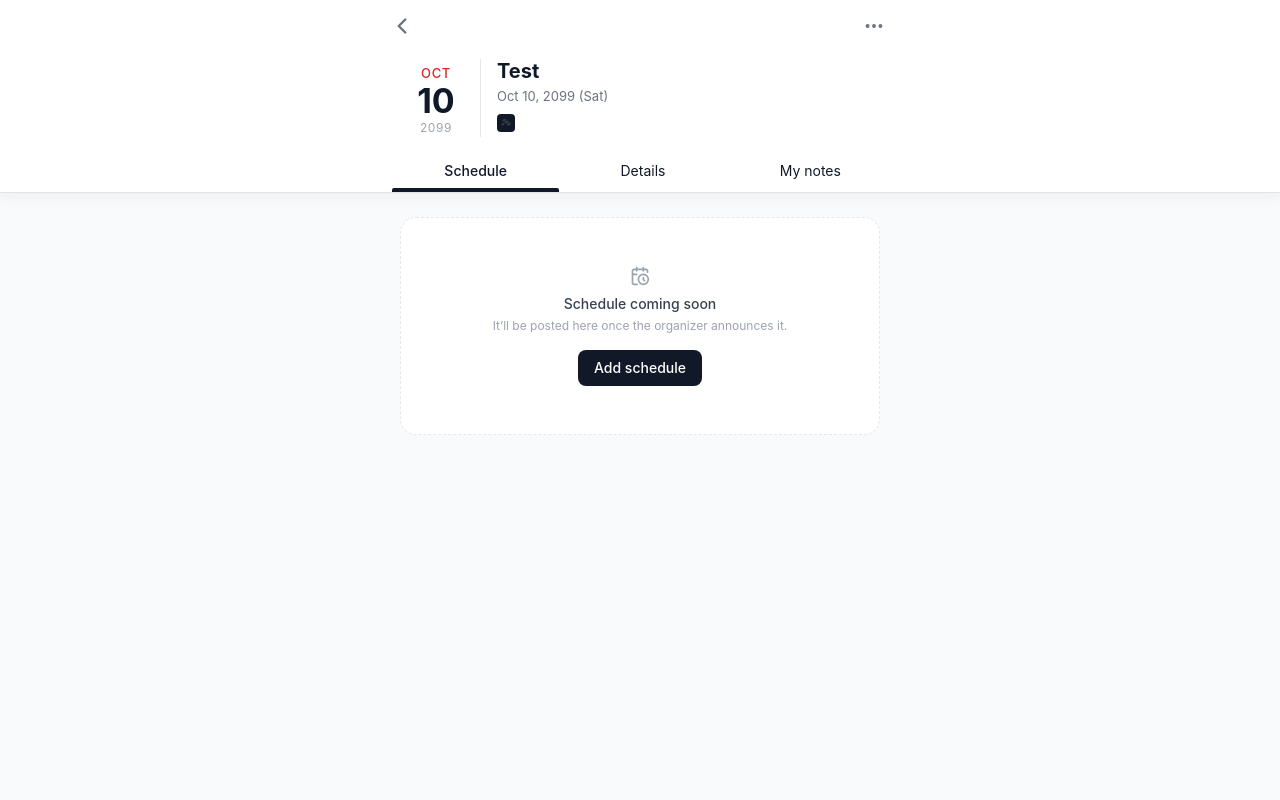
Test: deleting an event from the header menu (#229, #216, #232) › asks for confirmation, then deletes and goes home
The width and height of the screenshot is (1280, 800).
Step 1. Click the button named "More actions" → (874, 26), box [856,8,892,44]
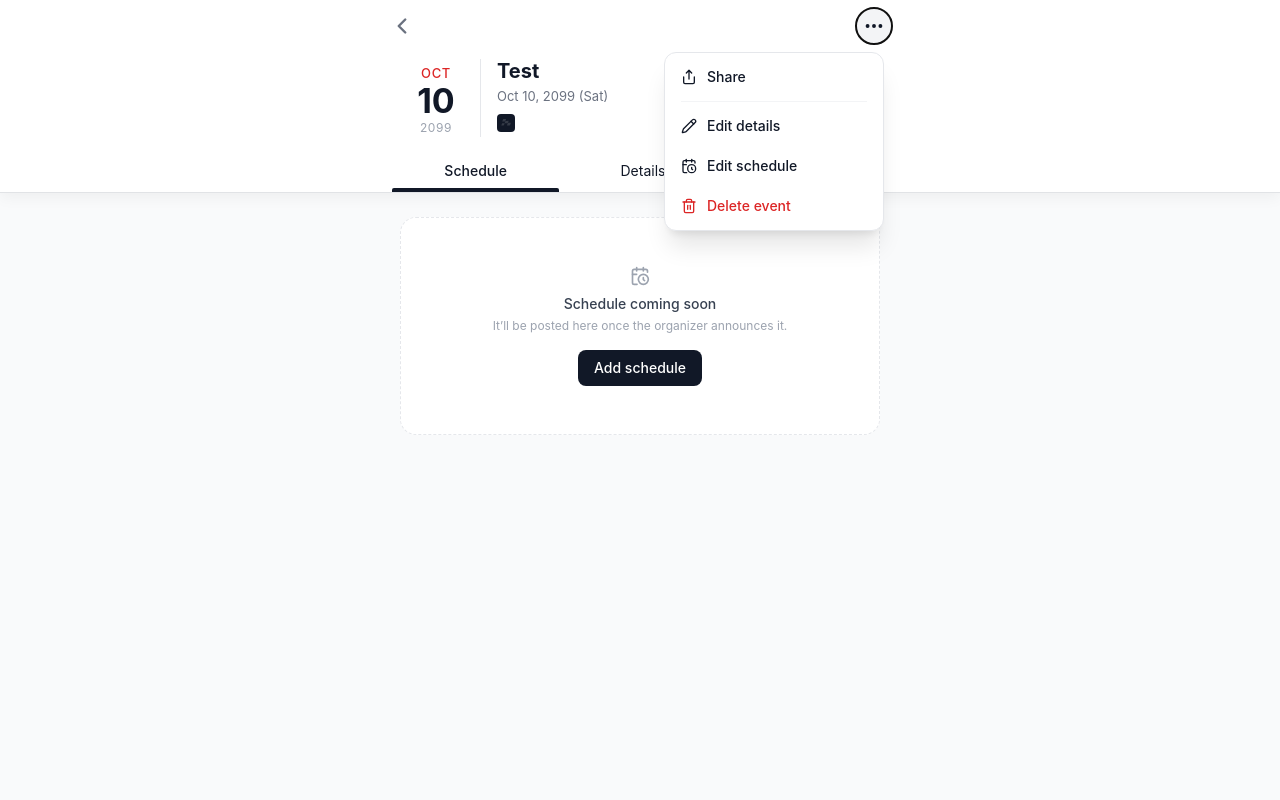
Step 2. Click the menu item "Delete event" → (774, 206), box [669,186,879,226]
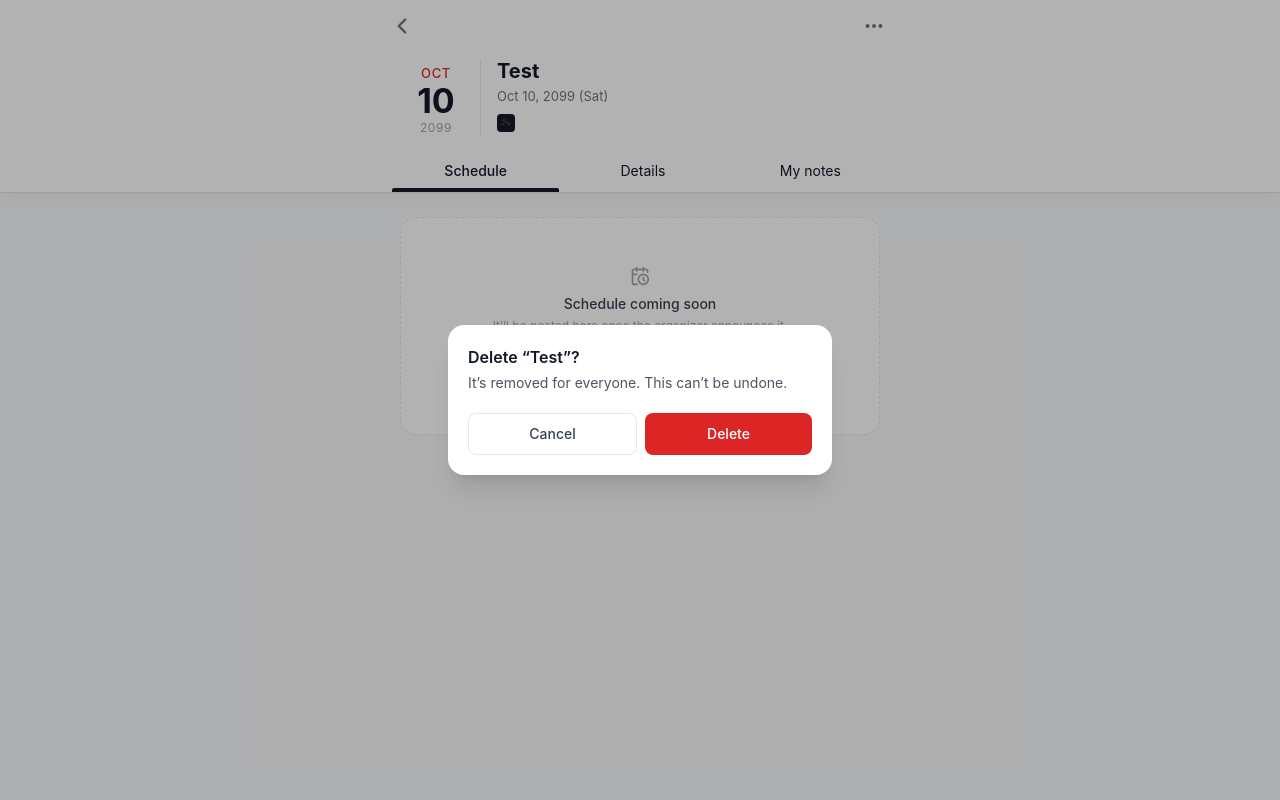
Expected: the menu is gone
Expected: the dialog shows "Delete “Test”?", [448,325,832,475]
Step 3. Click the button "Cancel" → (552, 434), box [468,413,637,455]
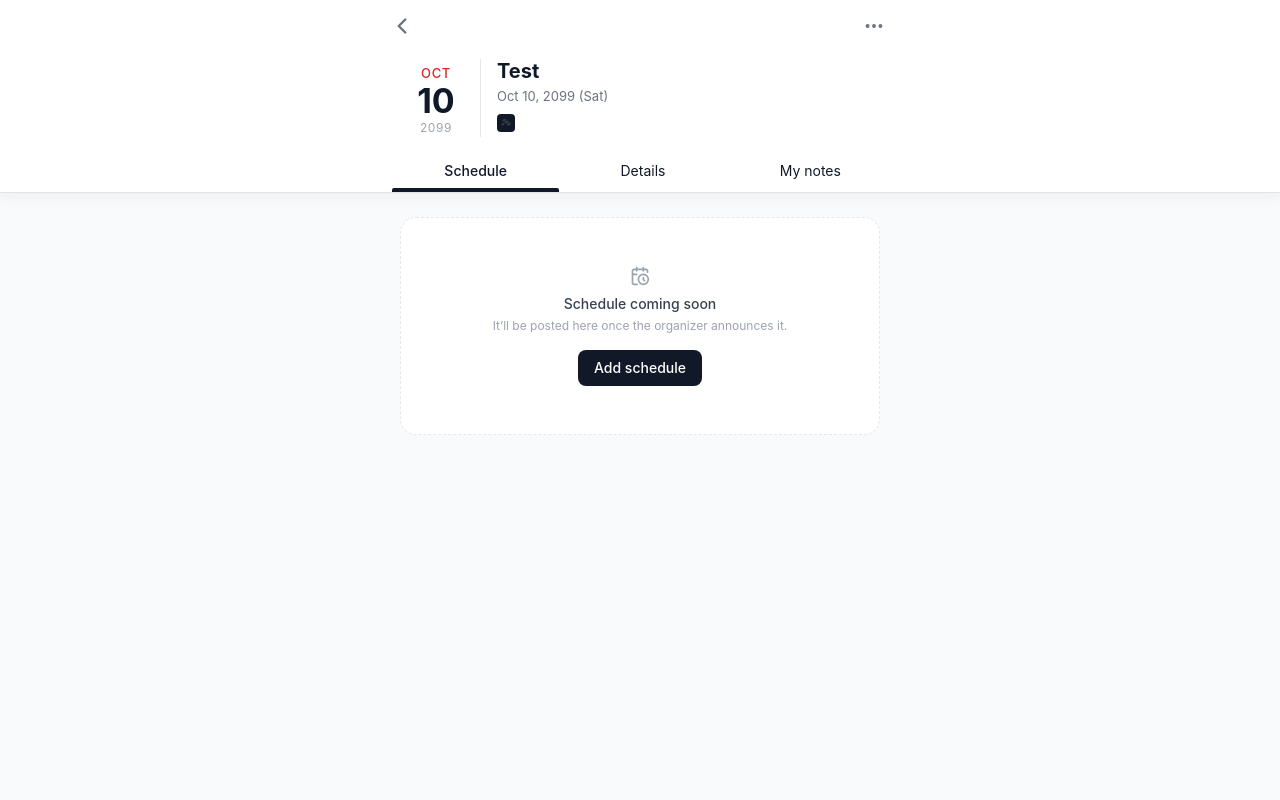
Expected: the dialog is gone
Step 4. Click the button named "More actions" → (874, 26), box [856,8,892,44]
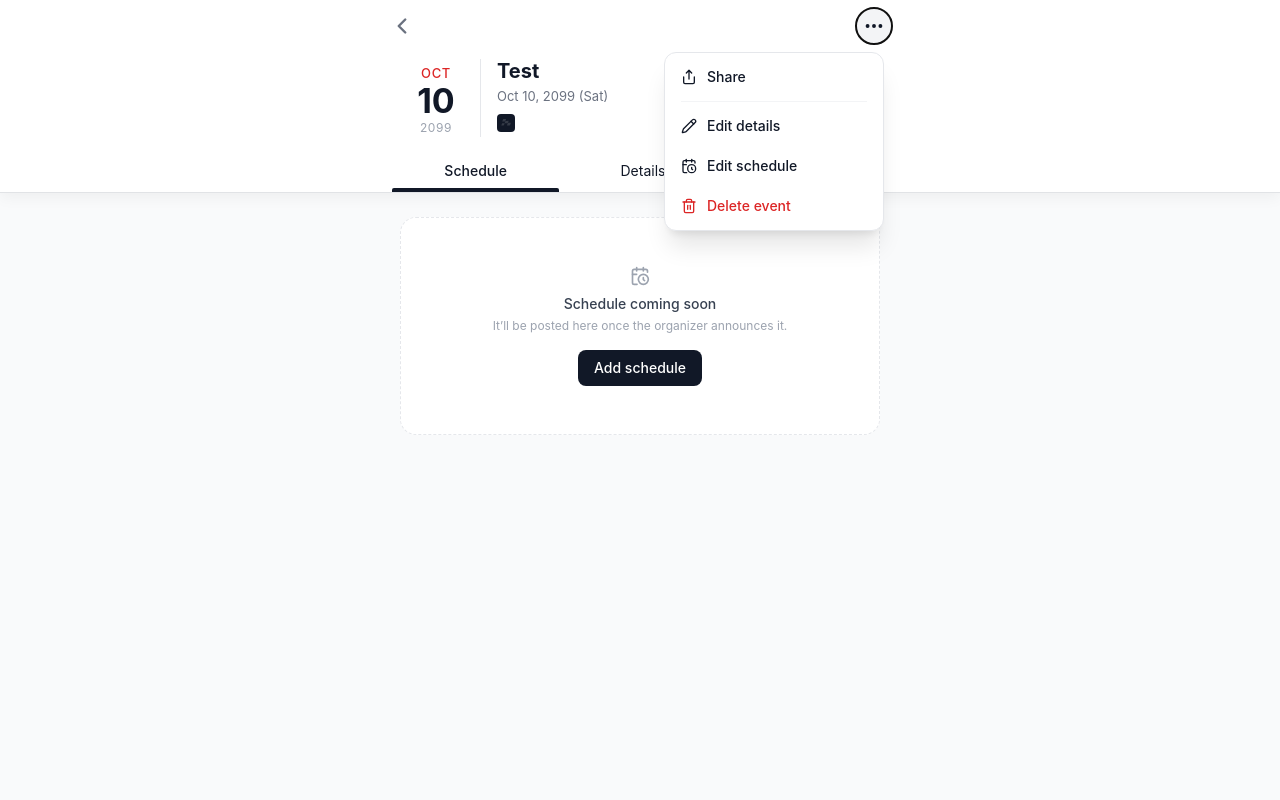
Step 5. Click the menu item "Delete event" → (774, 206), box [669,186,879,226]
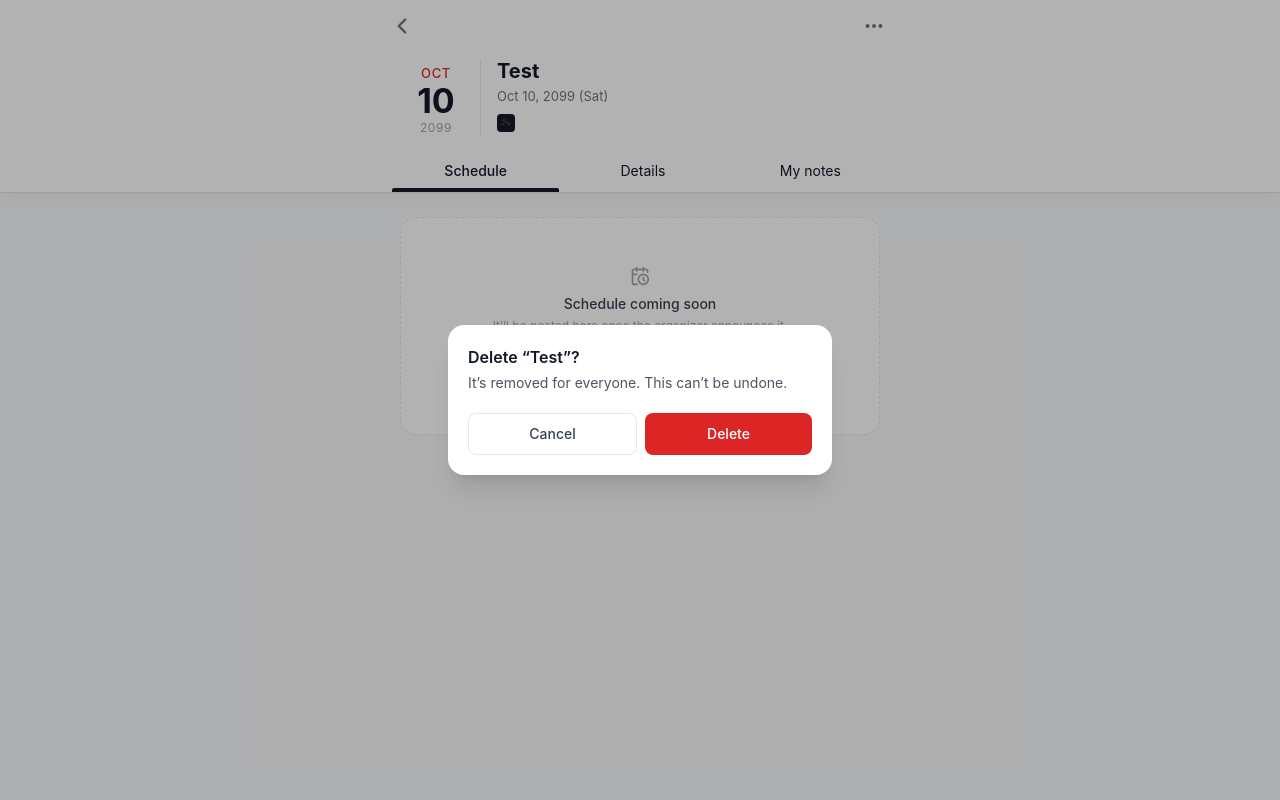
Step 6. Click the button "Delete" → (728, 434), box [645,413,812,455]
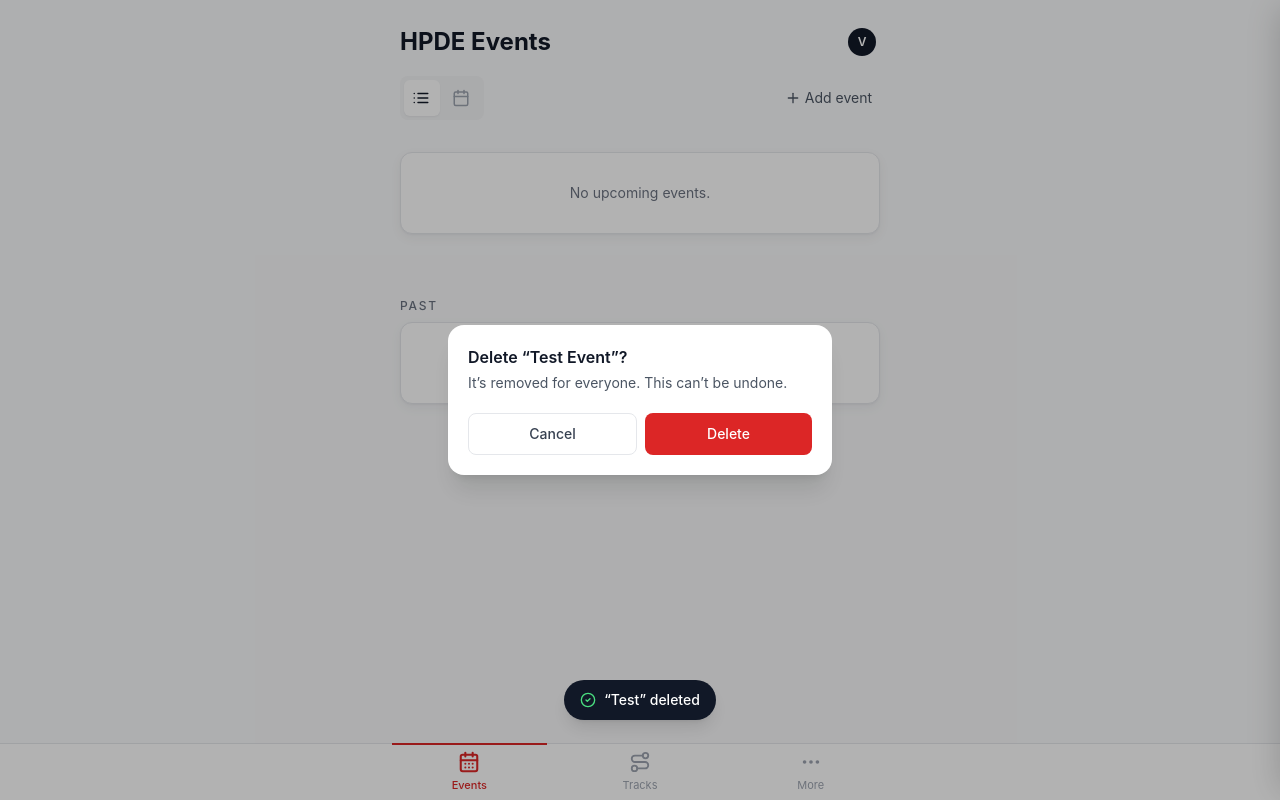
Expected: the message reads "“Test” deleted", [604,691,700,708]
